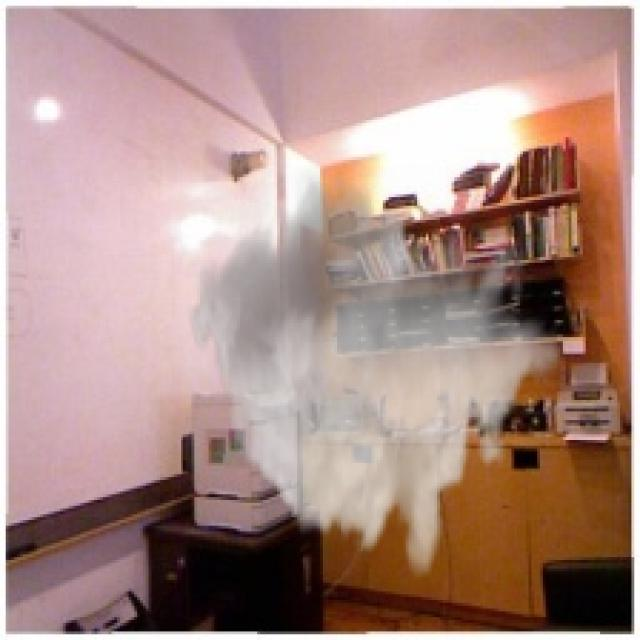smoke: (186, 166, 563, 583)
